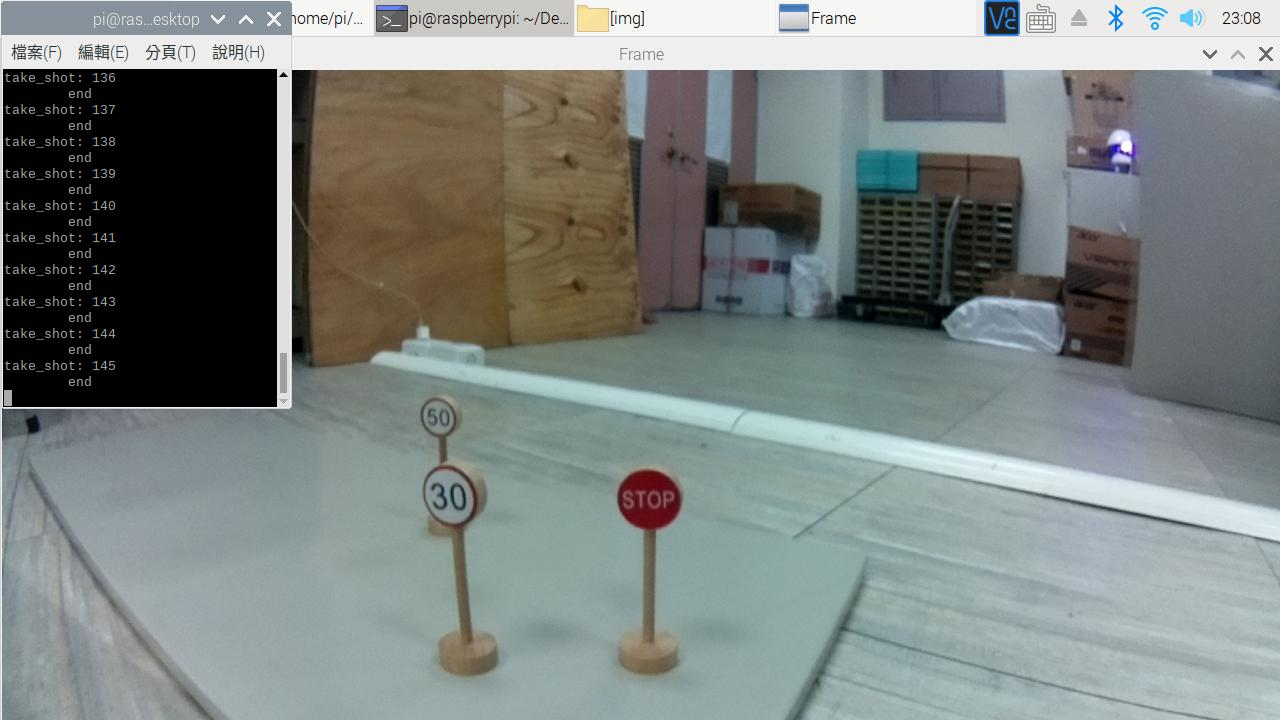Speed30: (403, 464, 520, 544)
Speed50: (401, 385, 485, 443)
Stop: (612, 462, 705, 543)
